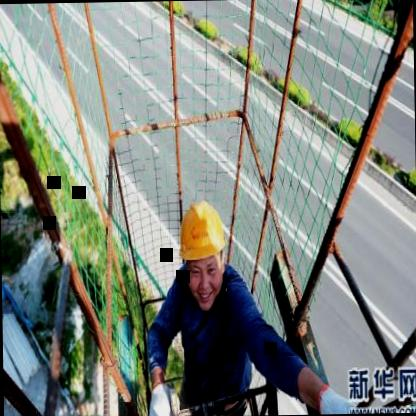helmet: (174, 189, 232, 306)
